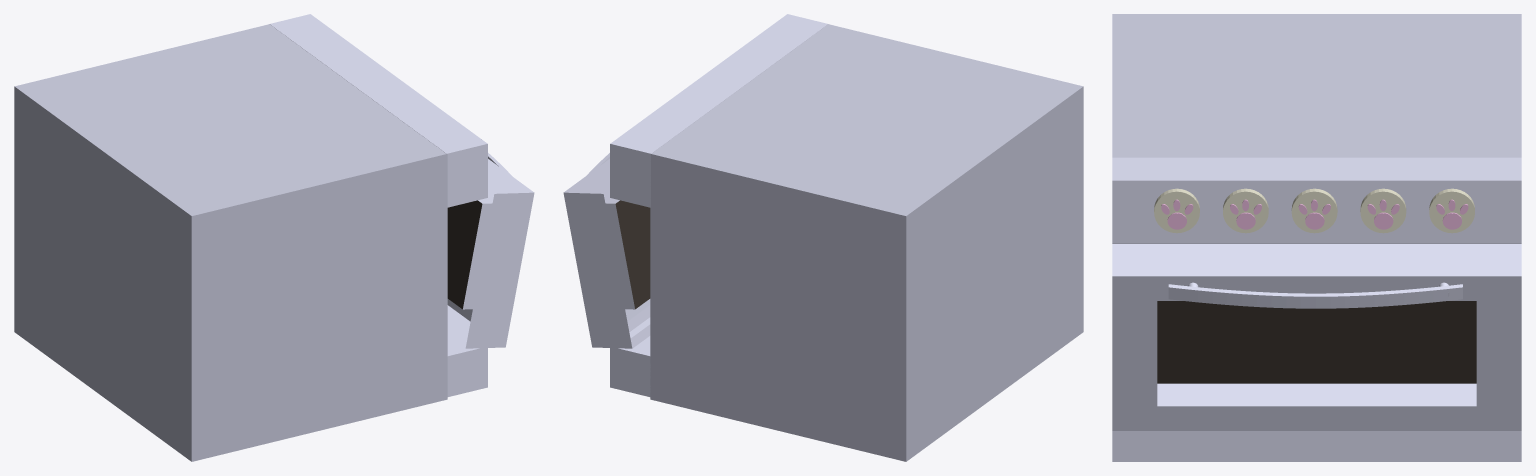
File: oven_open.fbx
3 views of the same model, side by side, from view 1: azimuth 30°, elevation 25°; view 2: azimuth 150°, elevation 25°; view 3: azimuth 270°, elevation 25° (orthographic). The views are drawn at different scales.
Parts seen in each view (by area): view 1: oven_door; view 2: oven_door; view 3: oven_door.
Part boxes in pixels (x1=…): oven_door: x1=14, y1=14, x2=534, y2=461; oven_door: x1=563, y1=14, x2=1083, y2=461; oven_door: x1=1112, y1=14, x2=1521, y2=461.
Size of the model in its own units: 262 by 171 by 224.
